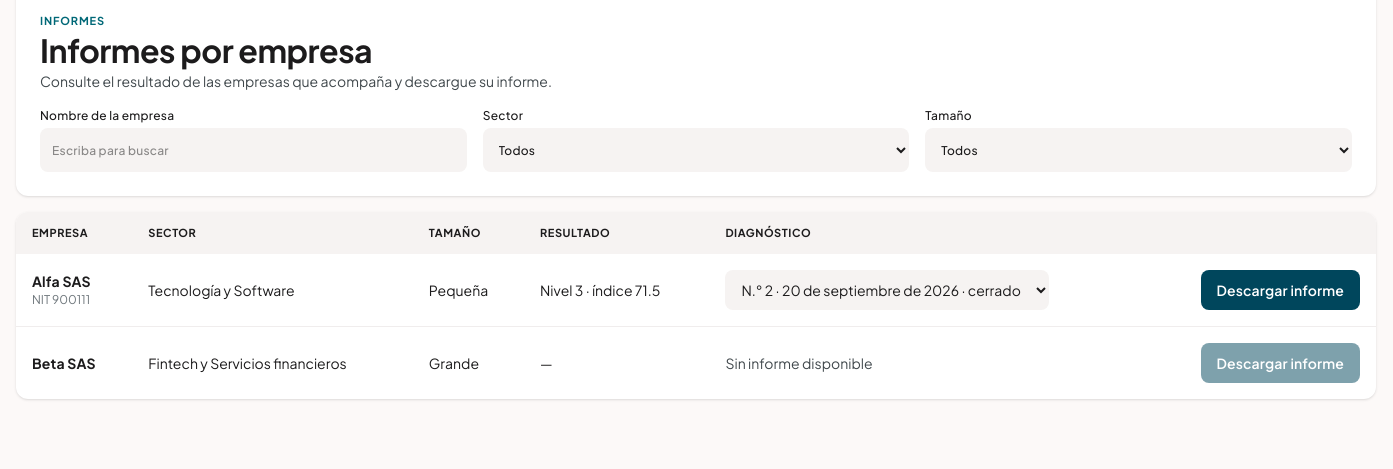
Test: Informes por empresa › muestra el mensaje del servidor si la descarga falla
Click the button with aria-label "Descargar informe de Alfa SAS": [1280, 290] box [1200,270,1360,310]
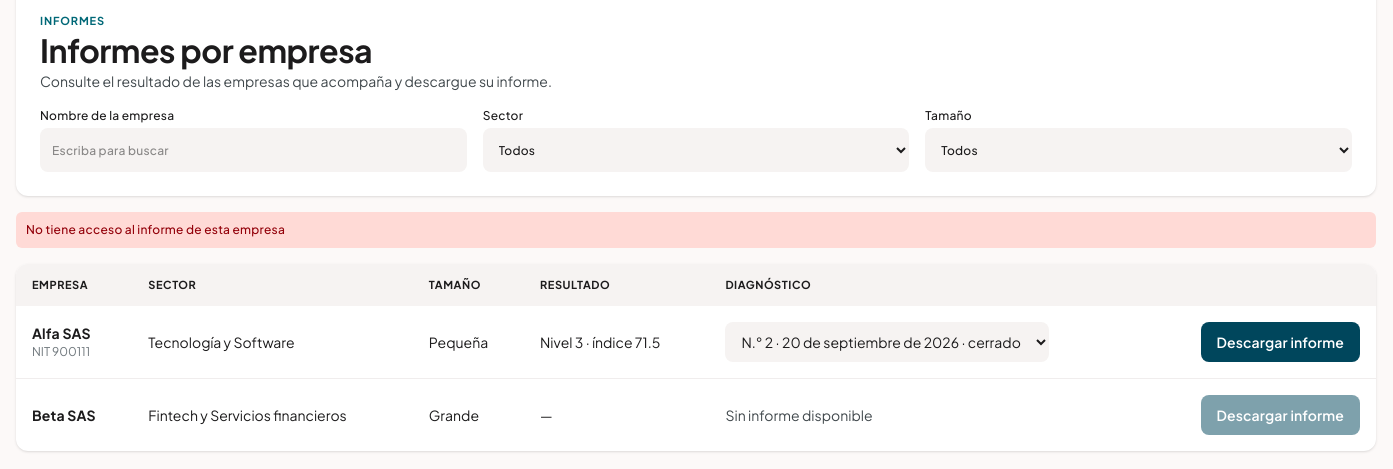
Result: the message shows "No tiene acceso al informe" at [26,222,285,237]
